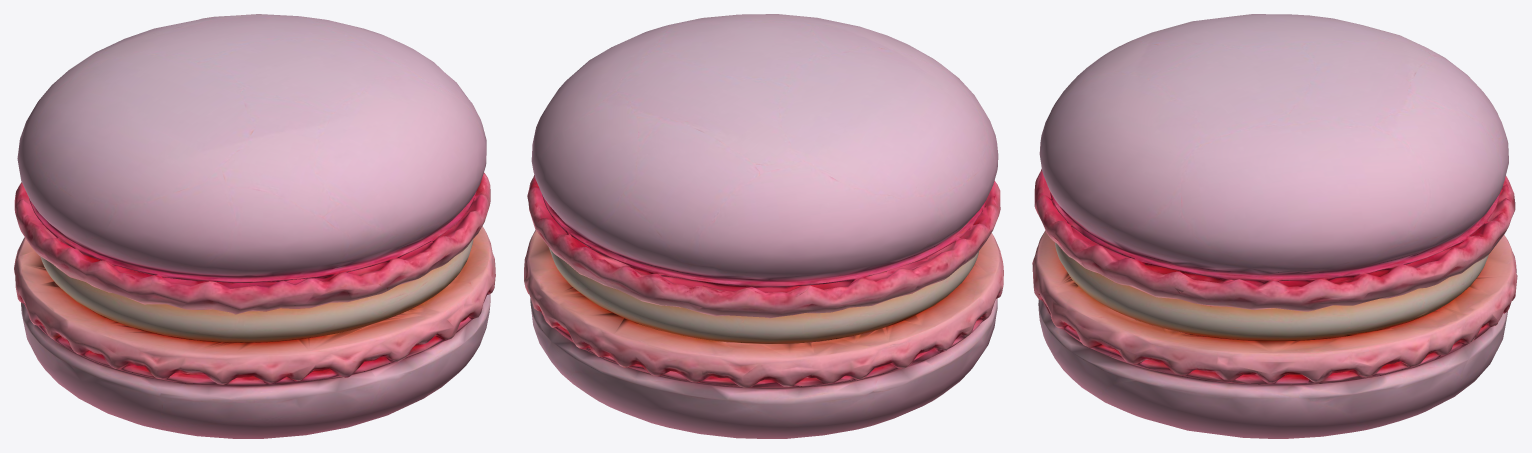
Rendered from macaron-lite.glb.
3 renders of one model, left to right at view 1: azimuth 30°, elevation 25°; view 2: azimuth 150°, elevation 25°; view 3: azimuth 270°, elevation 25°, orthographic.
Visible parts, largest first — view 1: macaron; view 2: macaron; view 3: macaron.
Boxes of the visible parts, <box> form: macaron: <box>14,14,495,438</box>; macaron: <box>524,14,1003,438</box>; macaron: <box>1032,14,1517,438</box>.
Bounding box in the file's own units: 1.1 × 0.793 × 1.1.
Materials: 1 (1 with a texture image).
